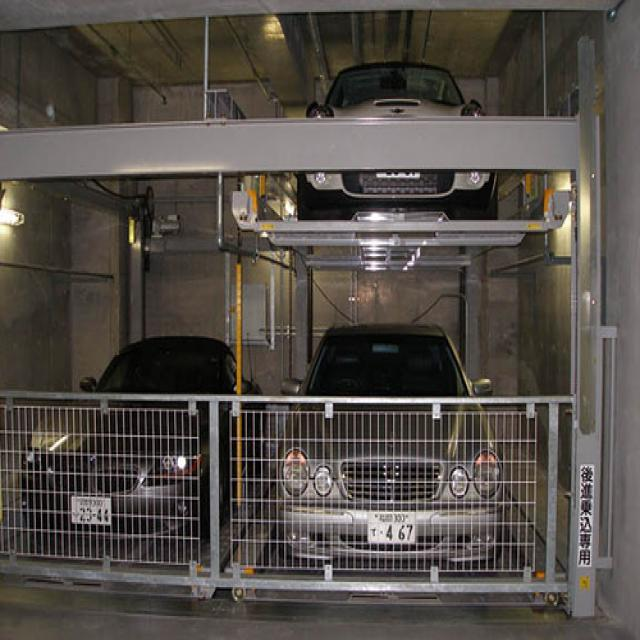Car: (279, 308, 507, 576), (19, 324, 269, 552), (283, 63, 510, 214)
